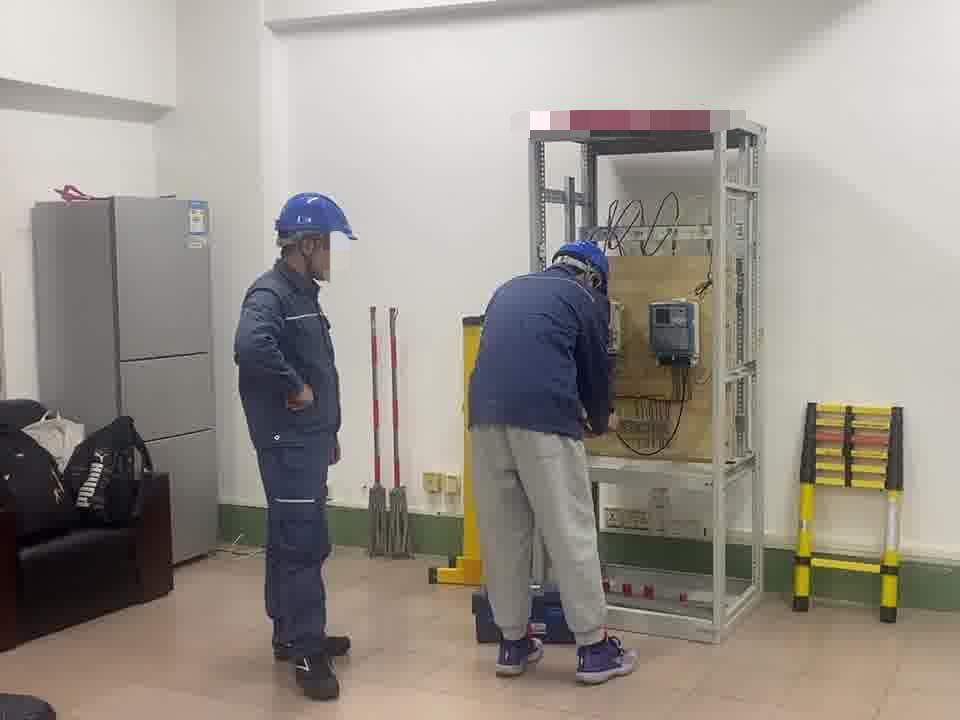halt: (277, 196, 358, 284), (554, 242, 613, 293)
inear: (295, 233, 328, 273)
